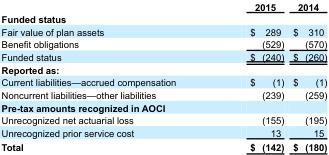table: (0, 1, 326, 151)
table column: (0, 1, 212, 151), (212, 1, 287, 151), (287, 1, 326, 151)
table column header: (0, 1, 326, 12)
table projected row header: (0, 12, 326, 25), (0, 63, 326, 75), (0, 101, 326, 113)
table row: (0, 12, 326, 25), (0, 37, 326, 50), (0, 50, 326, 63), (0, 75, 326, 88), (0, 88, 326, 101), (0, 113, 326, 126), (0, 126, 326, 139), (0, 25, 326, 37), (0, 63, 326, 75), (0, 101, 326, 113), (0, 139, 326, 151), (0, 1, 326, 12)
